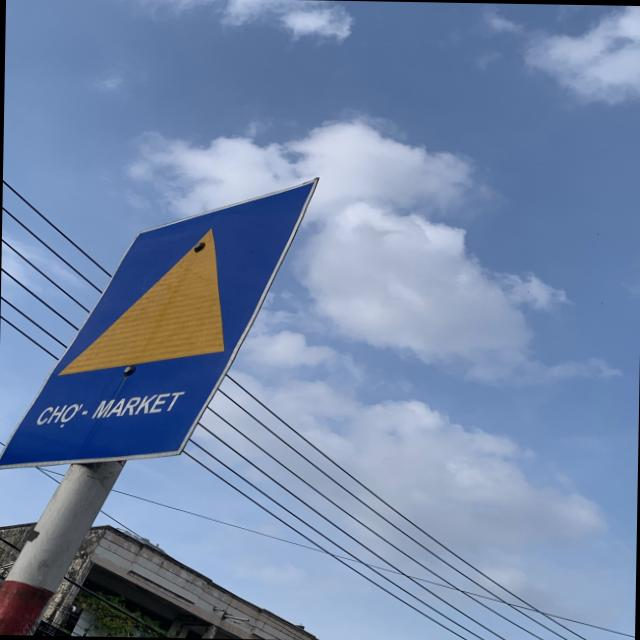Cho_Quay_Xe: (0, 171, 325, 471)
